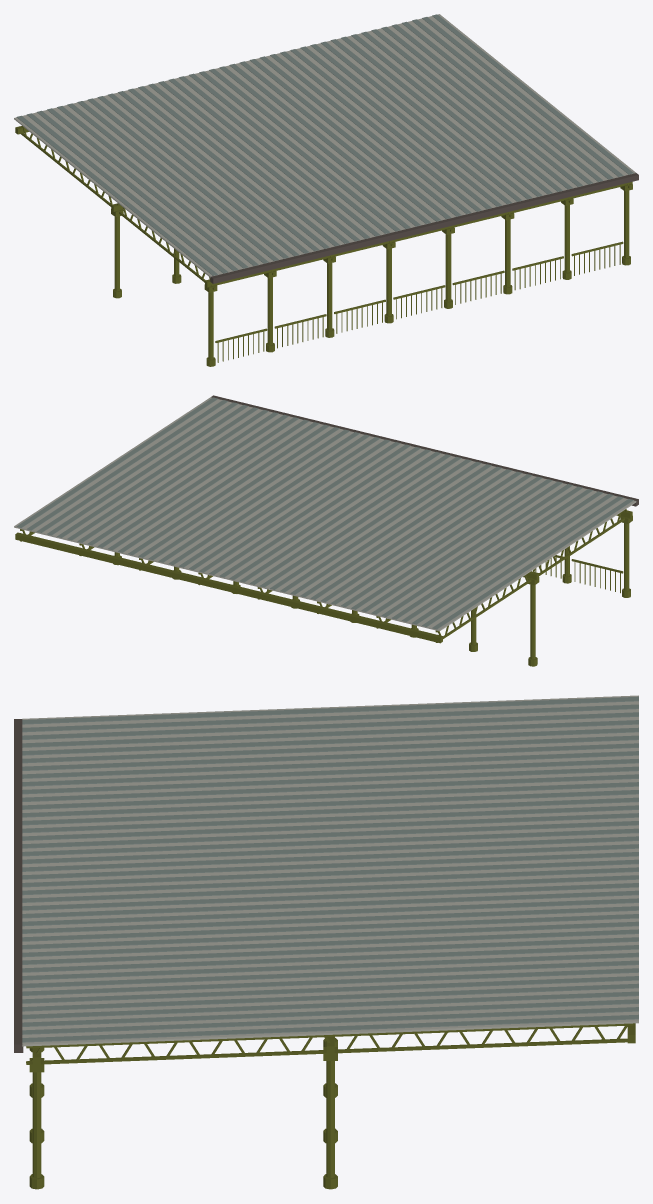
Rendered from SM_MarquesinaAdosada_v0_LOD0.fbx.
3 renders of one model, top to bottom at view 1: azimuth 30°, elevation 25°; view 2: azimuth 150°, elevation 25°; view 3: azimuth 270°, elevation 25°, orthographic. The views are drawn at different scales.
Visible parts, largest first — view 1: SM_marquesina_adosada_v0_LOD0; view 2: SM_marquesina_adosada_v0_LOD0; view 3: SM_marquesina_adosada_v0_LOD0.
Part boxes in pixels (bbox=[...]): SM_marquesina_adosada_v0_LOD0: bbox=[14, 14, 638, 366]; SM_marquesina_adosada_v0_LOD0: bbox=[14, 395, 638, 666]; SM_marquesina_adosada_v0_LOD0: bbox=[14, 695, 638, 1189].
Size of the model in its own units: 21 by 5.1 by 17.03.
